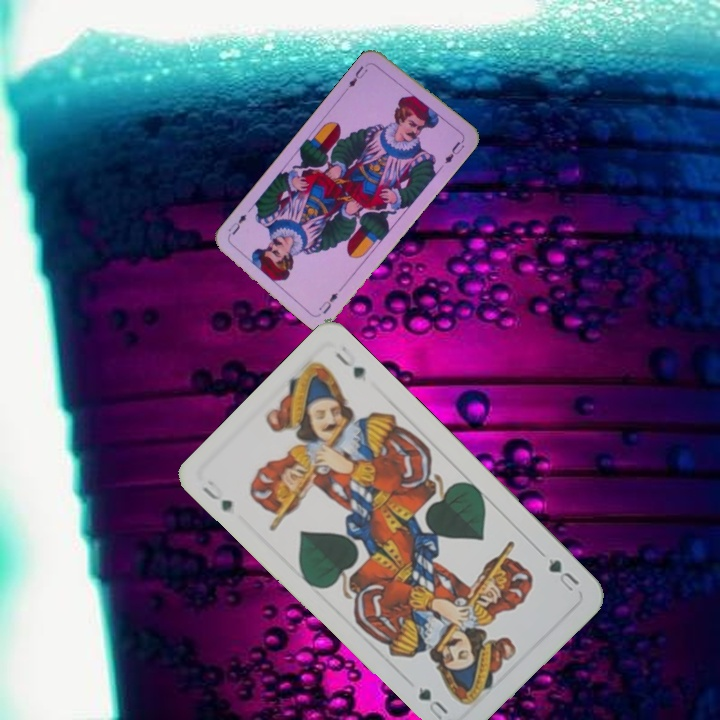EU: (345, 59, 372, 90), (314, 288, 341, 316)
GU: (544, 554, 582, 594), (198, 482, 236, 514)
